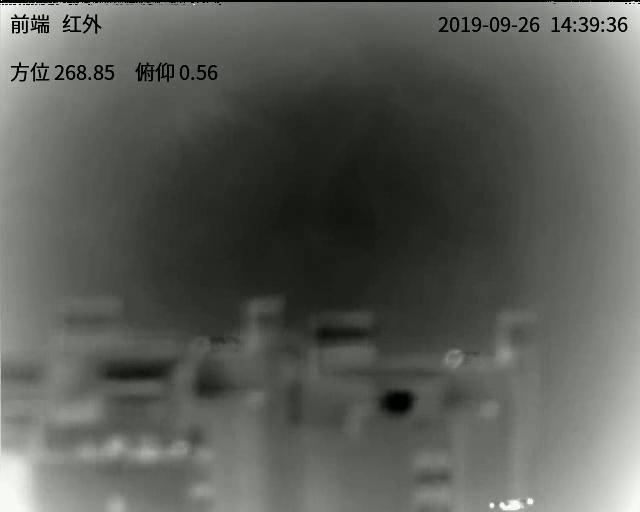DRONE: (489, 497, 534, 510)
